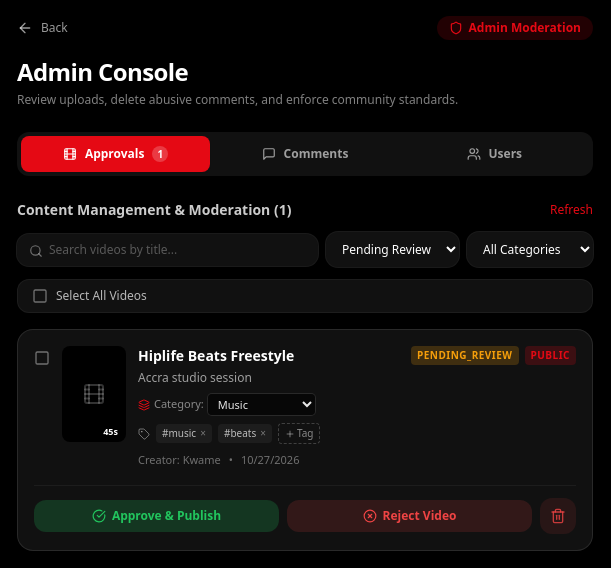
Scenario: AdminDashboard Component › allows switching to comments tab and deleting comments
Later steps or results of the test are not shown.
Expected: the heading "Hiplife Beats Freestyle" is shown, top-left (138, 346), bottom-right (294, 366)
Click the button "Comments". click: (305, 154)
box: top-left (210, 136), bottom-right (400, 172)
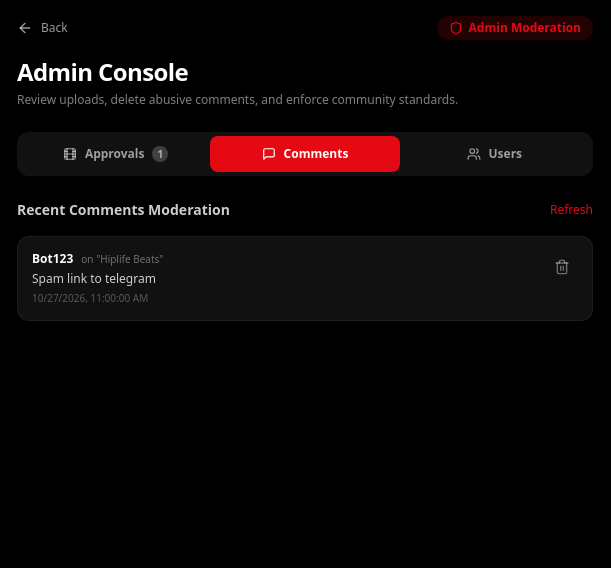
Expected: the text "Spam link to telegram" is shown, top-left (32, 270), bottom-right (156, 287)
